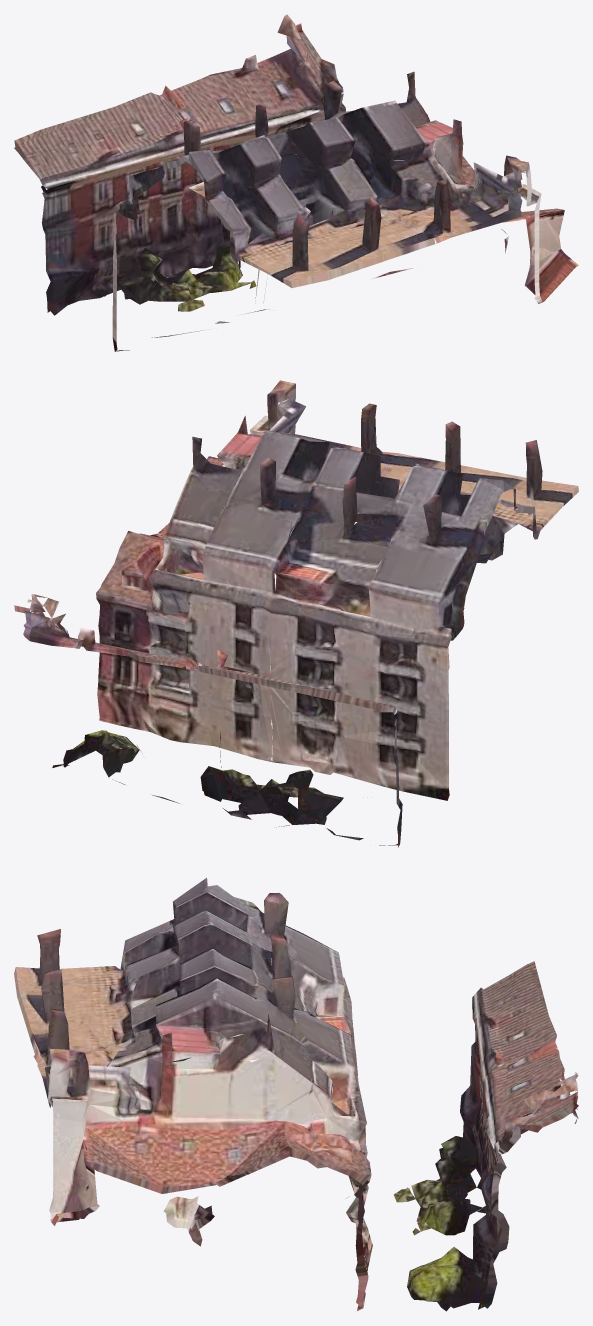
3 views of the same model, one above another, from view 1: azimuth 30°, elevation 25°; view 2: azimuth 150°, elevation 25°; view 3: azimuth 270°, elevation 25° (orthographic). The views are drawn at different scales.
Parts seen in each view (by area): view 1: Mesh_0; view 2: Mesh_0; view 3: Mesh_0.
Part boxes in pixels (left/top/right/bottom): Mesh_0: left=14, top=14, right=578, bottom=351; Mesh_0: left=14, top=380, right=578, bottom=847; Mesh_0: left=14, top=877, right=578, bottom=1311.
Bounding box in the file's own units: 33.31 × 22.21 × 41.22.
Materials: 2 (2 with a texture image).
